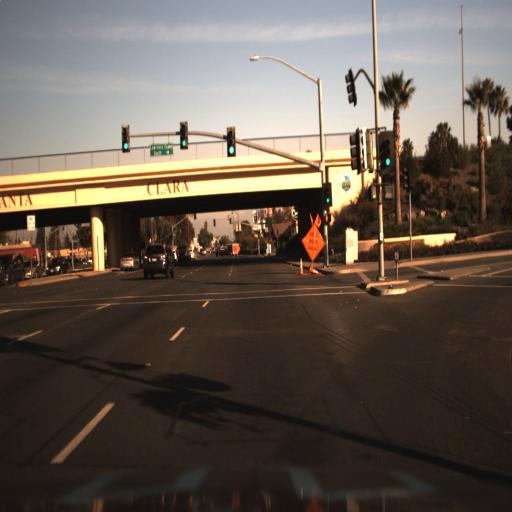car: (139, 239, 173, 284), (0, 252, 26, 285), (44, 250, 70, 283), (45, 251, 67, 276), (216, 240, 242, 259), (23, 257, 45, 279), (118, 250, 138, 273)
trafficLight-Green: (374, 123, 397, 183), (380, 130, 393, 177), (225, 126, 238, 157), (224, 124, 235, 159), (120, 123, 132, 154), (323, 177, 334, 208), (179, 120, 189, 152), (120, 127, 130, 154), (323, 186, 332, 209), (181, 124, 190, 146)
